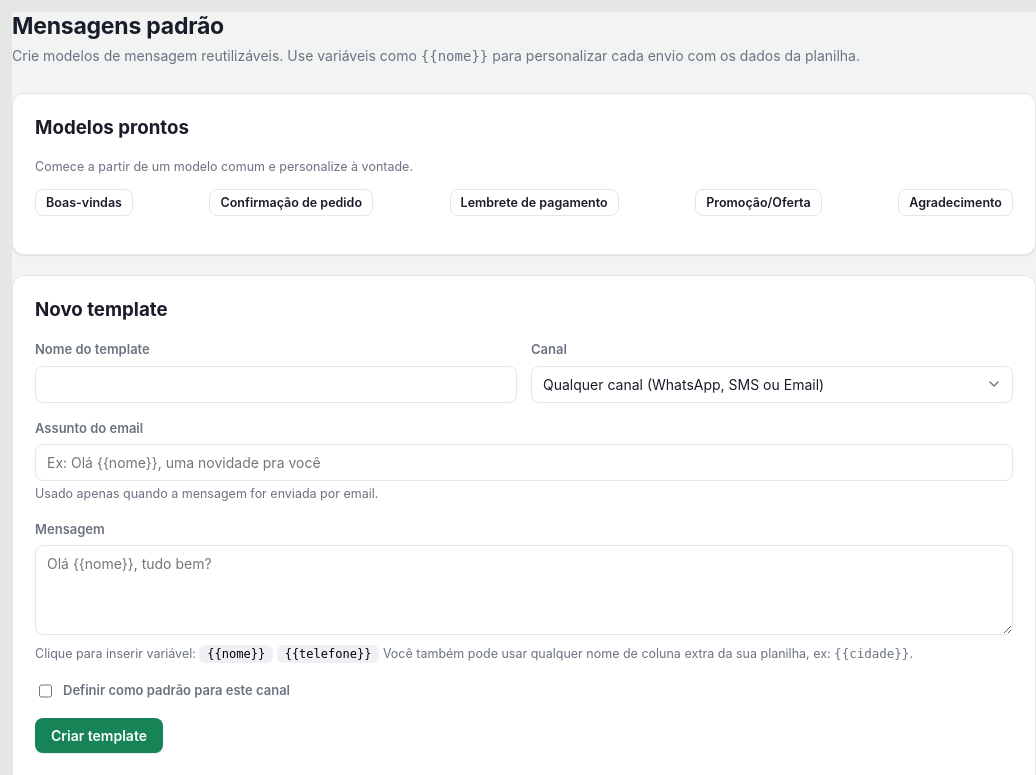
Test case: TemplatesPage › shows the subject field when the channel is "any" (the default) or "email"
Expected: the field labelled "Assunto do email" is shown, top-left (35, 444), bottom-right (1013, 481)
Select "Somente SMS" in the dropdown labelled "Canal" at [772, 384], box top-left (531, 366), bottom-right (1013, 403)
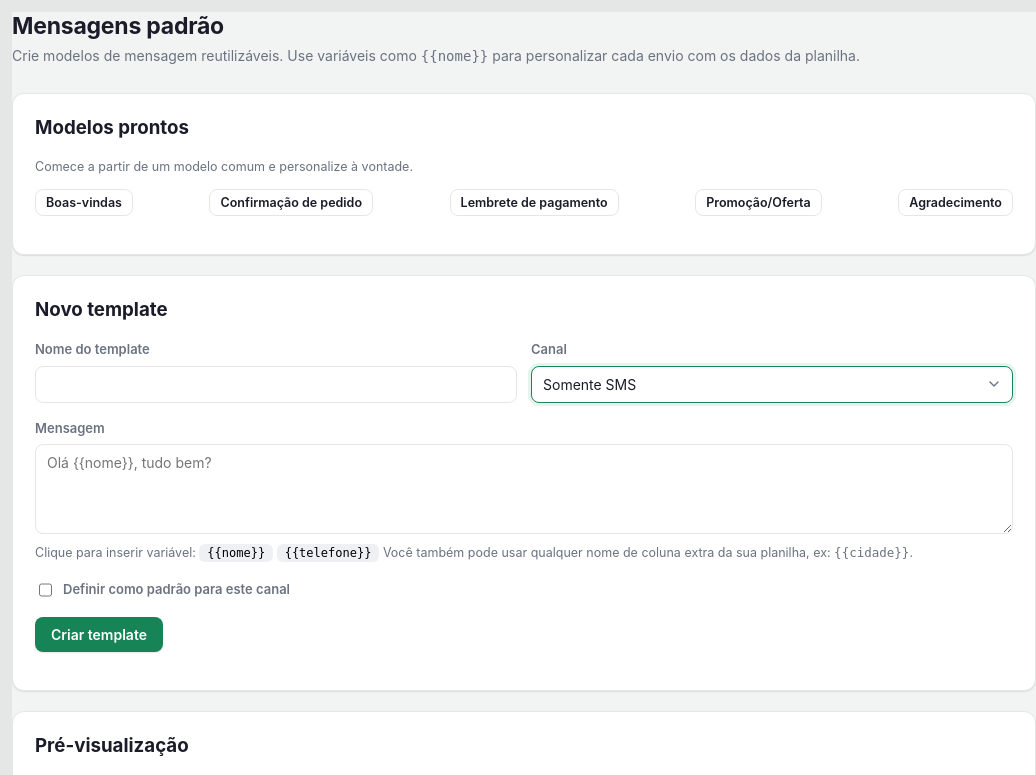
Expected: the label labelled "Assunto do email" is gone
Select "Somente Email" in the dropdown labelled "Canal" at [772, 384], box top-left (531, 366), bottom-right (1013, 403)
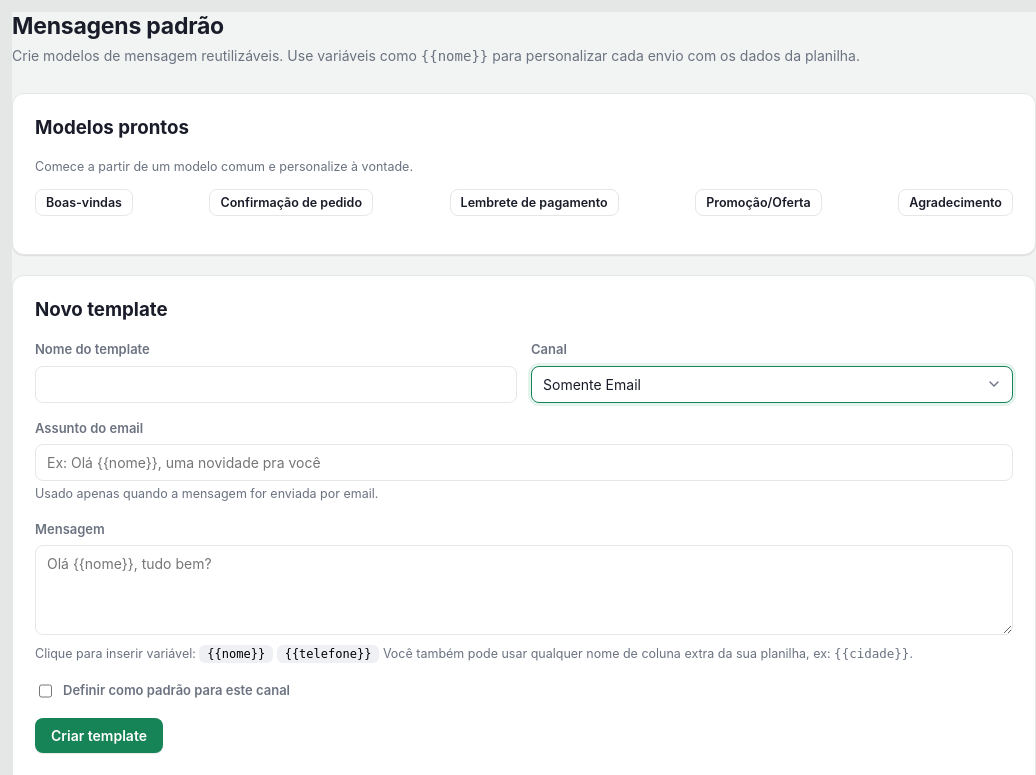
Expected: the field labelled "Assunto do email" is shown, top-left (35, 444), bottom-right (1013, 481)
